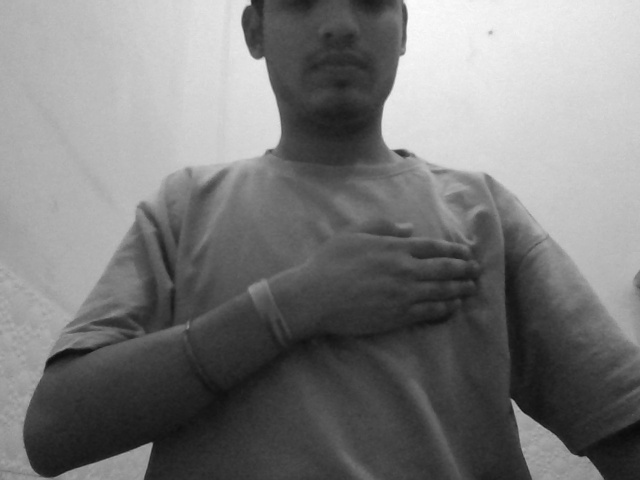Sorry: (283, 204, 488, 367)
